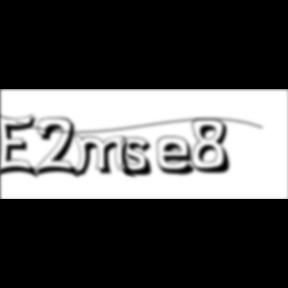2: (34, 117, 84, 181)
8: (192, 117, 236, 176)
E: (1, 110, 44, 182)
e: (156, 135, 202, 178)
m: (71, 132, 139, 181)
s: (120, 137, 160, 179)
